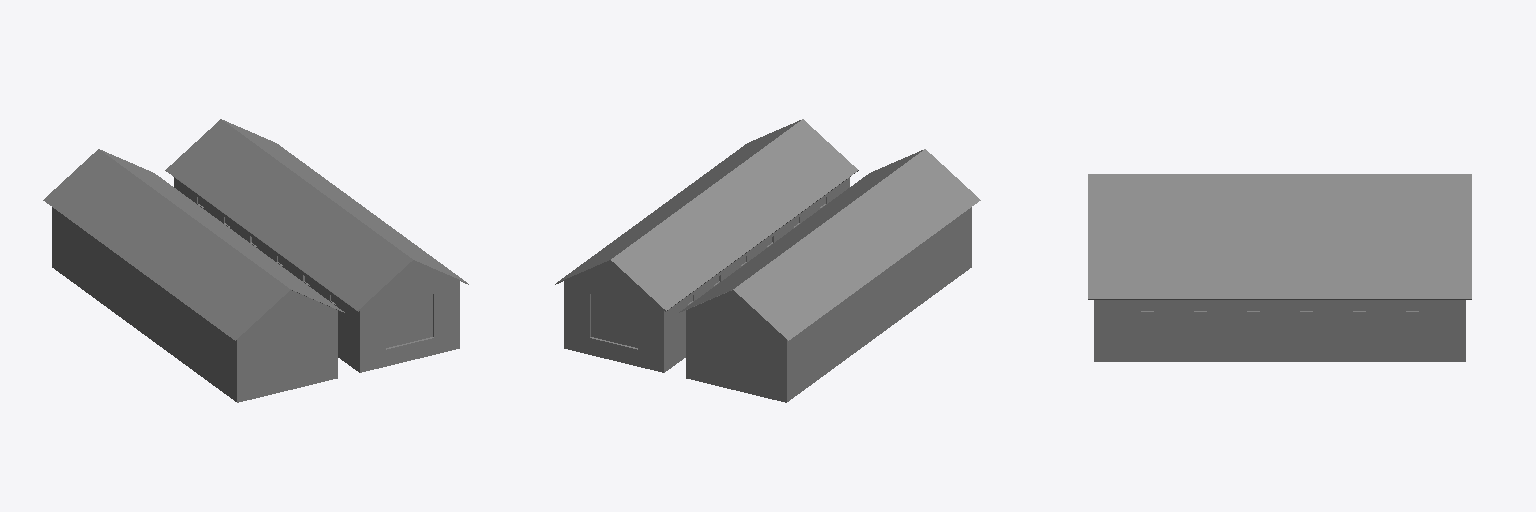
The model's file is Brick_Hangar_OBJ.obj.
3 renders of one model, left to right at view 1: azimuth 30°, elevation 25°; view 2: azimuth 150°, elevation 25°; view 3: azimuth 270°, elevation 25°, orthographic.
Visible parts, largest first — view 1: 02_ML_031_LOD1, 02_ML_031_LOD0; view 2: 02_ML_031_LOD1, 02_ML_031_LOD0; view 3: 02_ML_031_LOD0, 02_ML_031_LOD1.
Part boxes in pixels (left/top/right/bottom): 02_ML_031_LOD1: left=43, top=149, right=344, bottom=402; 02_ML_031_LOD0: left=165, top=119, right=468, bottom=372; 02_ML_031_LOD1: left=679, top=149, right=980, bottom=402; 02_ML_031_LOD0: left=555, top=119, right=858, bottom=372; 02_ML_031_LOD0: left=1088, top=234, right=1471, bottom=361; 02_ML_031_LOD1: left=1088, top=174, right=1471, bottom=233.
Bounding box in the file's own units: 1438 × 608 × 2050.